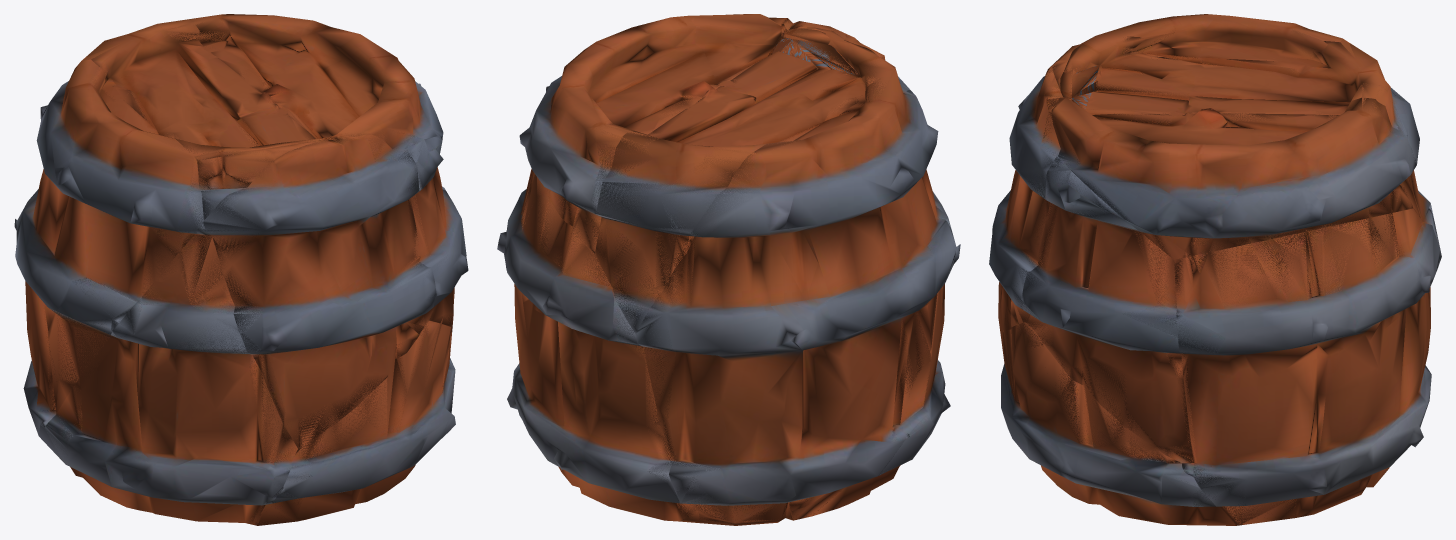
Rendered from cr_barrel-B3Bd813W.glb.
3 renders of one model, left to right at view 1: azimuth 30°, elevation 25°; view 2: azimuth 150°, elevation 25°; view 3: azimuth 270°, elevation 25°, orthographic.
Parts seen in each view (by area): view 1: frag_7, frag_1, frag_2, whole, frag_8, frag_5, frag_3, frag_0, frag_4; view 2: frag_2, frag_6, frag_3, whole, frag_8, frag_1, frag_4; view 3: frag_6, frag_8, frag_0, whole, frag_5, frag_3, frag_7, frag_2.
Boxes of the visible parts, box(x1,y1,x2,y2) form: frag_7: box(203, 134, 436, 448); frag_1: box(44, 223, 297, 524); frag_2: box(14, 56, 203, 435); whole: box(37, 15, 452, 525); frag_8: box(188, 14, 443, 149); frag_5: box(254, 320, 455, 525); frag_3: box(87, 19, 333, 160); frag_0: box(408, 136, 468, 335); frag_4: box(197, 140, 322, 219); frag_2: box(636, 70, 959, 522); frag_6: box(497, 169, 698, 522); frag_3: box(595, 28, 895, 333); whole: box(521, 16, 959, 525); frag_8: box(519, 14, 786, 253); frag_1: box(696, 192, 960, 525); frag_4: box(772, 27, 909, 89); frag_6: box(1174, 209, 1441, 524); frag_8: box(1051, 97, 1416, 259); frag_0: box(1021, 157, 1193, 476); whole: box(998, 21, 1441, 525); frag_5: box(1001, 322, 1242, 525); frag_3: box(1060, 36, 1437, 235); frag_7: box(989, 66, 1063, 331); frag_2: box(1098, 14, 1435, 224).
Size of the model in its own units: 2.05 by 1.86 by 2.05.
Materials: 1 (1 with a texture image).
